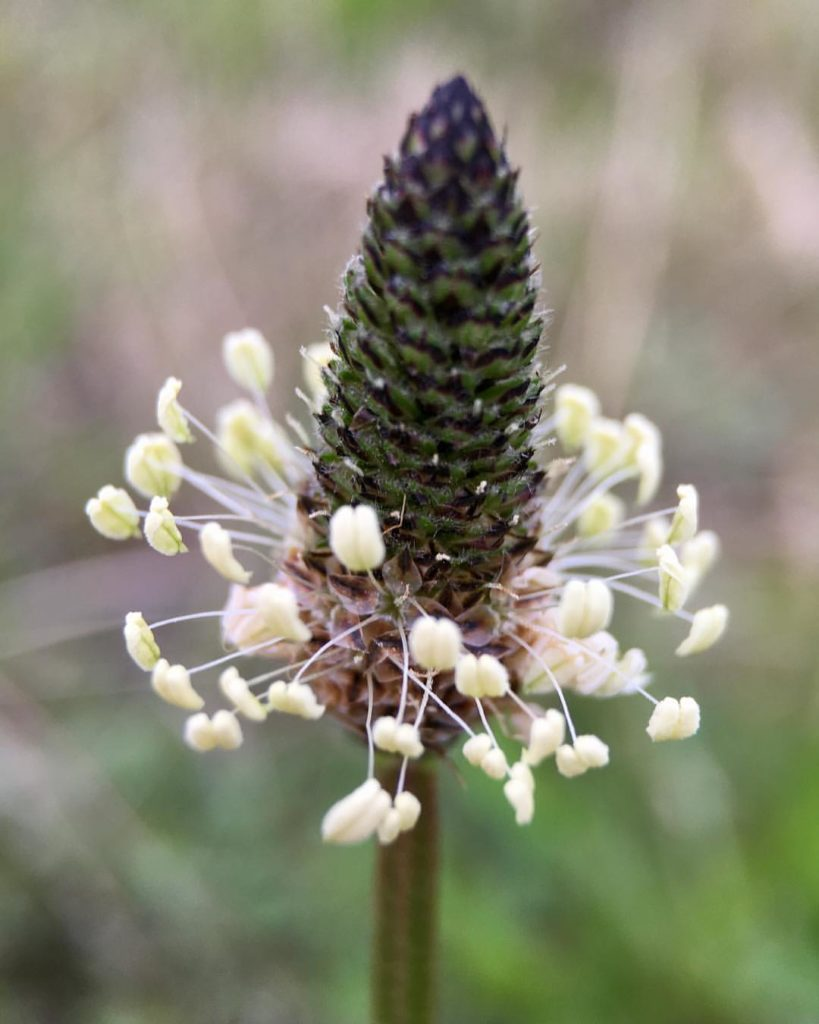buckhorn plantain: (180, 61, 737, 945)
